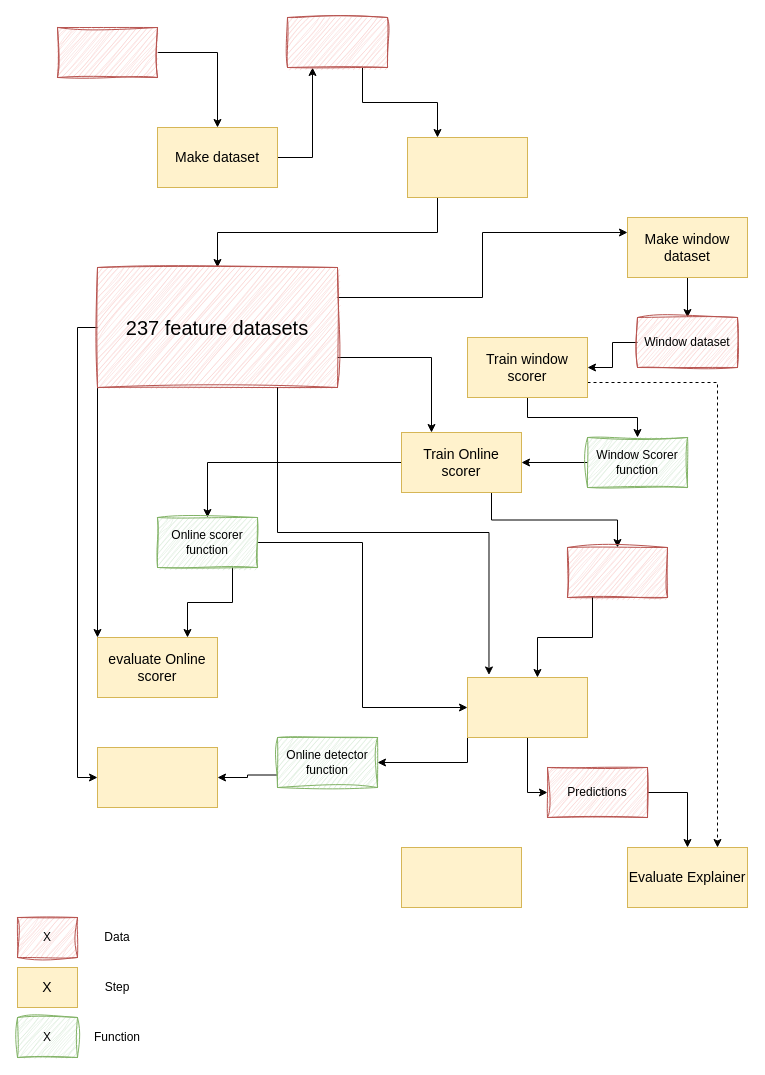
This 765x1075 diagram has some shape labels left out. The centre of each missing label's shape, as x and y in pixels:
"Build Features" goes at point 467,167.
"datasets" goes at point 337,42.
"evaluate Online detector" goes at point 157,777.
"Predicted scores" goes at point 617,572.
"RAW DATA" goes at point 107,52.
"Train Explainer" goes at point 461,877.
"Train Online Detector" goes at point 527,707.
